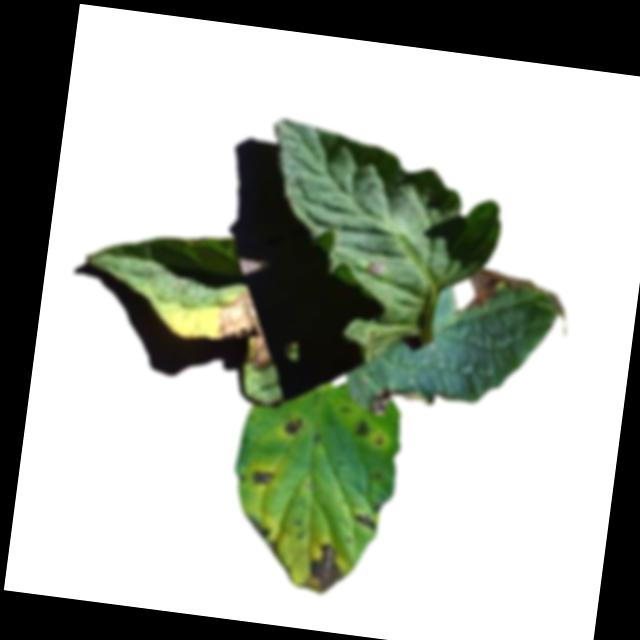Early_blight: (463, 265, 579, 336), (213, 286, 283, 370), (299, 539, 347, 600), (365, 378, 424, 422), (239, 515, 271, 539), (248, 467, 276, 489), (282, 414, 303, 438), (350, 417, 371, 441), (351, 514, 377, 532), (367, 257, 387, 277)
